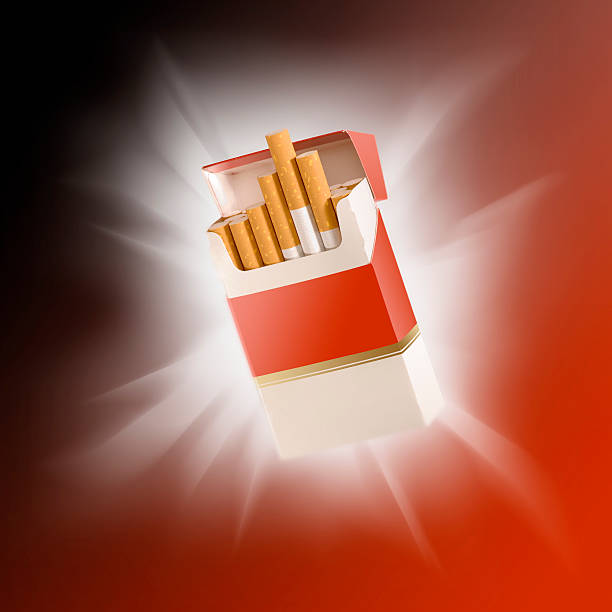cigarette: (194, 126, 446, 460), (265, 127, 325, 256), (294, 148, 343, 248), (258, 168, 304, 262), (245, 200, 287, 269), (229, 217, 265, 270), (210, 220, 244, 270), (330, 189, 351, 206)
